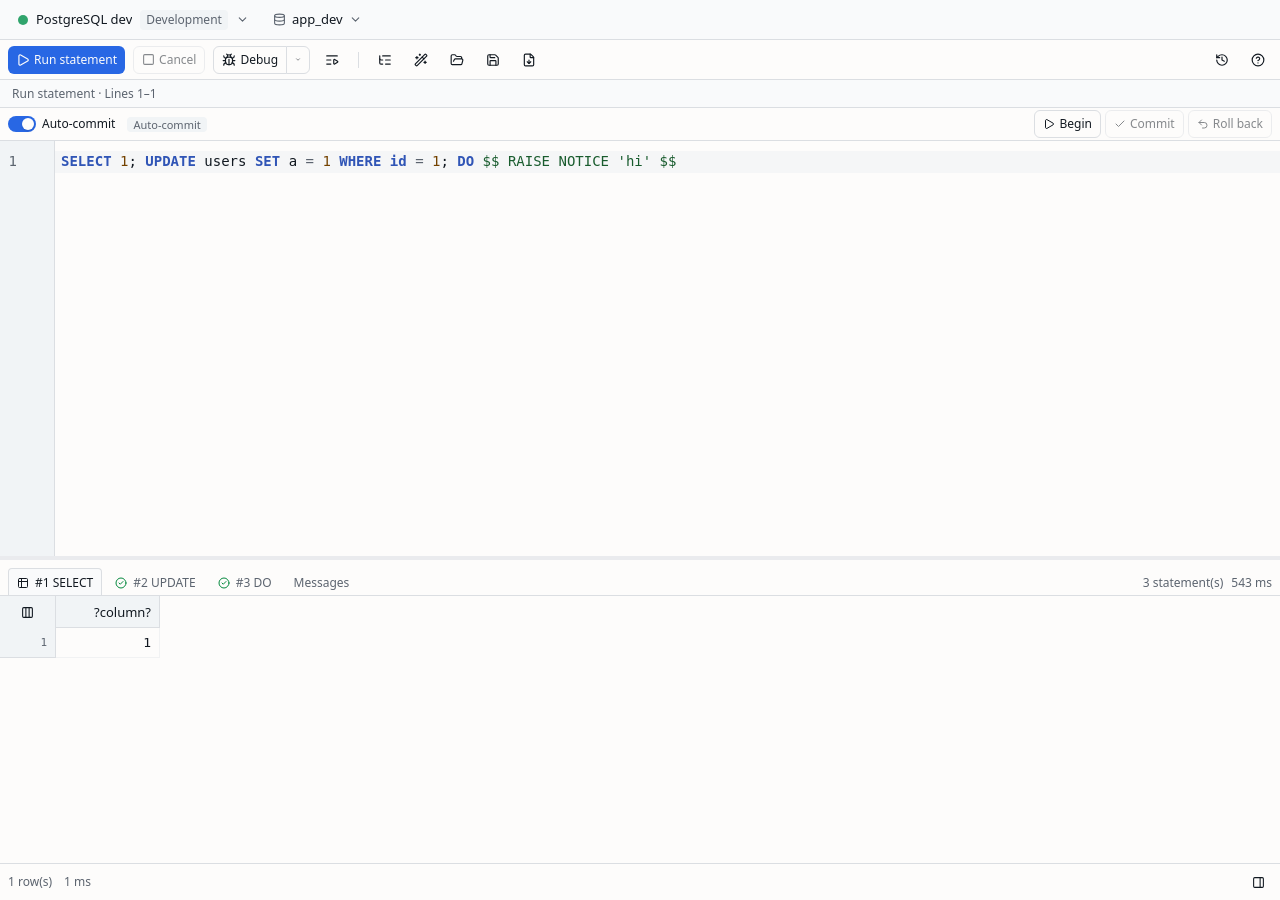
Test: EditorTab › shows several result sets, affected rows and server messages
Earlier steps of the test are not shown.
Click the tab "#2 UPDATE". click: (155, 582)
box: x1=106 y1=568 x2=205 y2=596
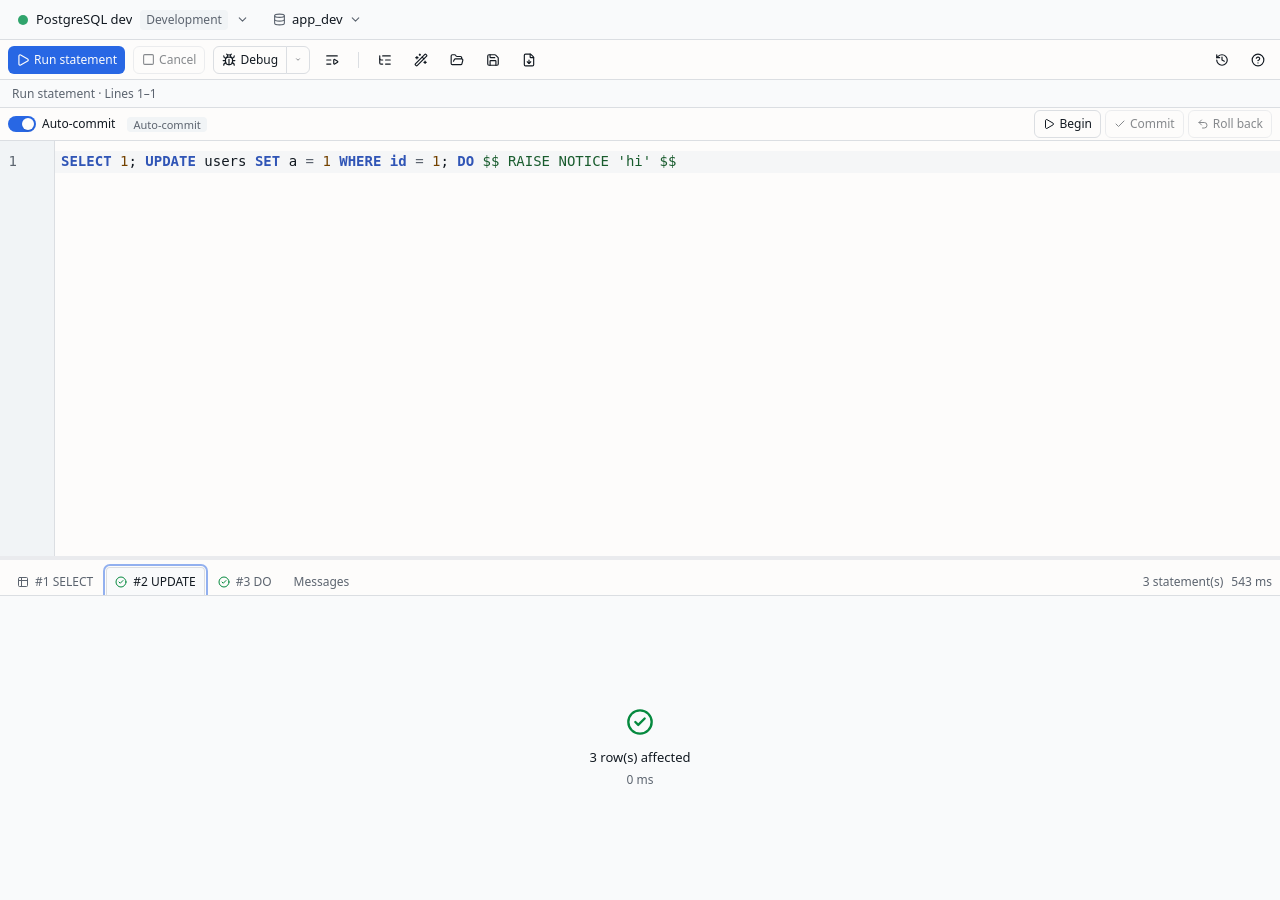
Check: the text "3 row(s) affected" is shown, box x1=590 y1=748 x2=690 y2=768
Click the tab "Messages". click: (322, 581)
box: x1=285 y1=567 x2=358 y2=595
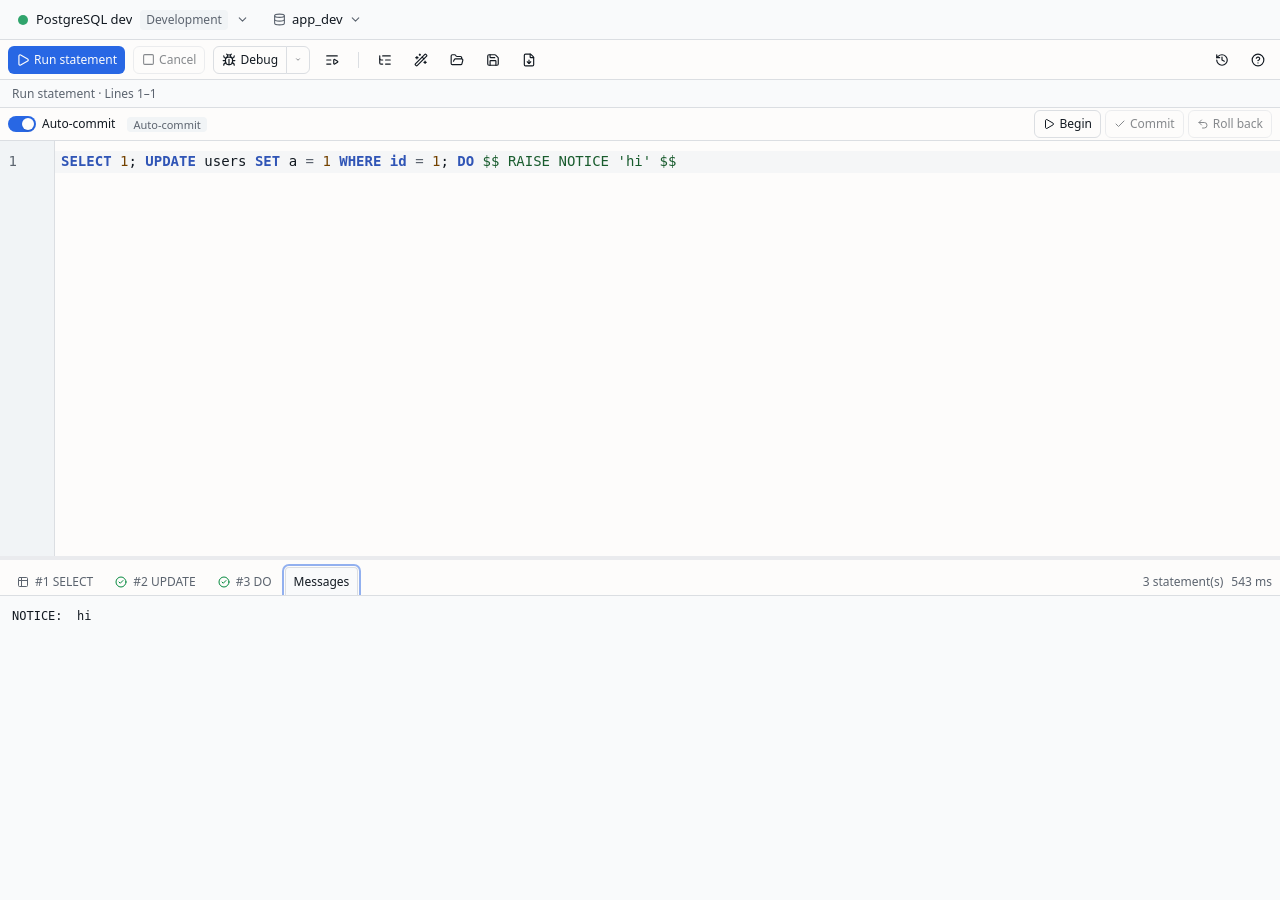
Check: the list item "NOTICE: hi" is shown, box x1=12 y1=609 x2=92 y2=623
